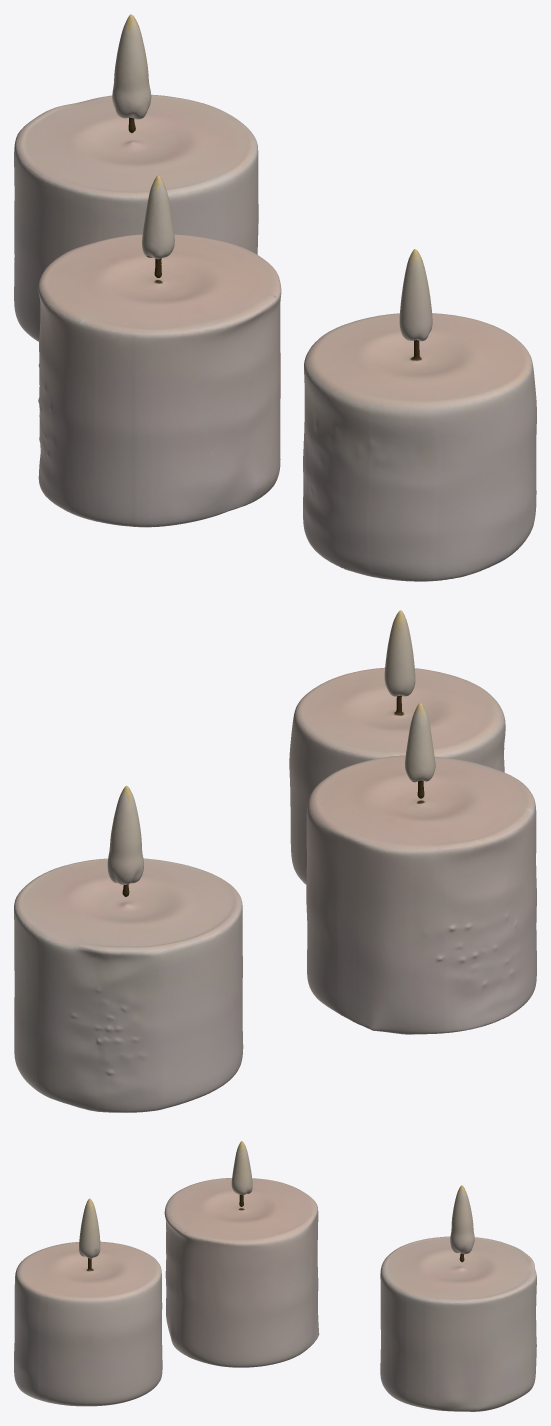
The model's file is detailed_realistic_model_floating_01.glb.
3 renders of one model, top to bottom at view 1: azimuth 30°, elevation 25°; view 2: azimuth 150°, elevation 25°; view 3: azimuth 270°, elevation 25°, orthographic. The views are drawn at different scales.
Visible parts, largest first — view 1: tripo_node_ac50be89-40b3-4eea-900e-9e979a801f76; view 2: tripo_node_ac50be89-40b3-4eea-900e-9e979a801f76; view 3: tripo_node_ac50be89-40b3-4eea-900e-9e979a801f76.
Boxes of the visible parts, <box> form: tripo_node_ac50be89-40b3-4eea-900e-9e979a801f76: <box>14,14,536,581</box>; tripo_node_ac50be89-40b3-4eea-900e-9e979a801f76: <box>14,610,536,1112</box>; tripo_node_ac50be89-40b3-4eea-900e-9e979a801f76: <box>14,1141,536,1411</box>.
Bounding box in the file's own units: 0.5067 × 0.4204 × 1.
Materials: 1 (1 with a texture image).
